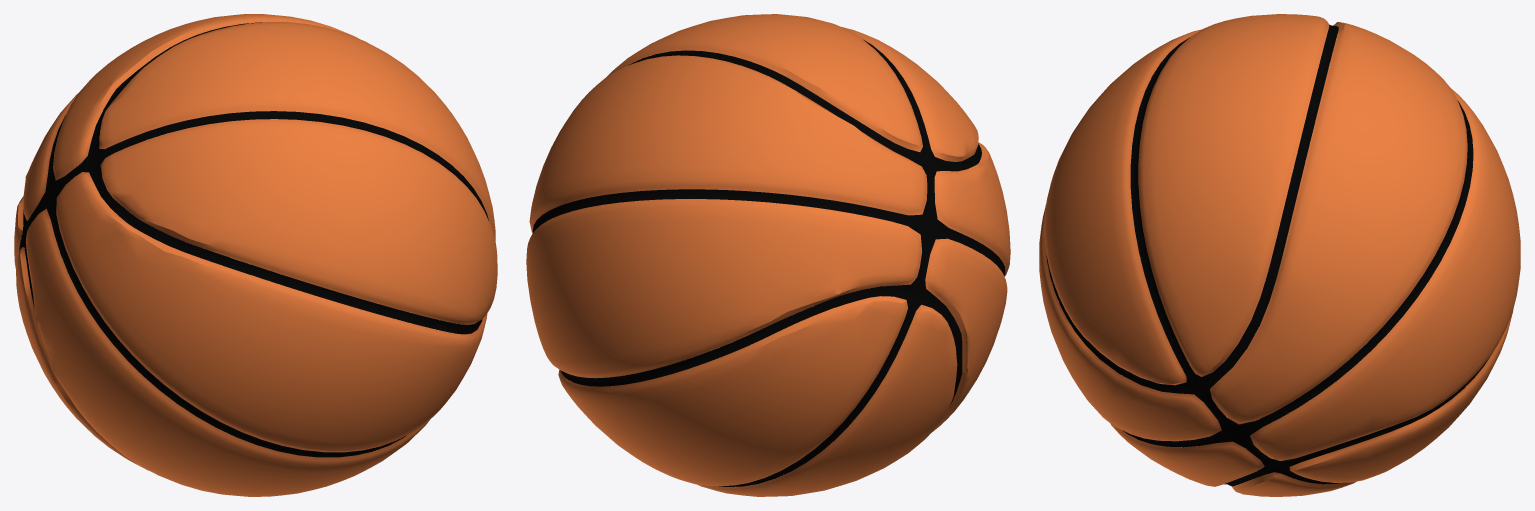
The picture shows the model from 3 angles, left to right: view 1: azimuth 30°, elevation 25°; view 2: azimuth 150°, elevation 25°; view 3: azimuth 270°, elevation 25°; orthographic projection.
Visible parts, largest first — view 1: basketball; view 2: basketball; view 3: basketball.
Part boxes in pixels (x1,y1,x2,y2): basketball: (14,14,497,496); basketball: (526,14,1010,496); basketball: (1039,14,1520,496).
Bounding box in the file's own units: 2.14 × 2.14 × 2.14.
